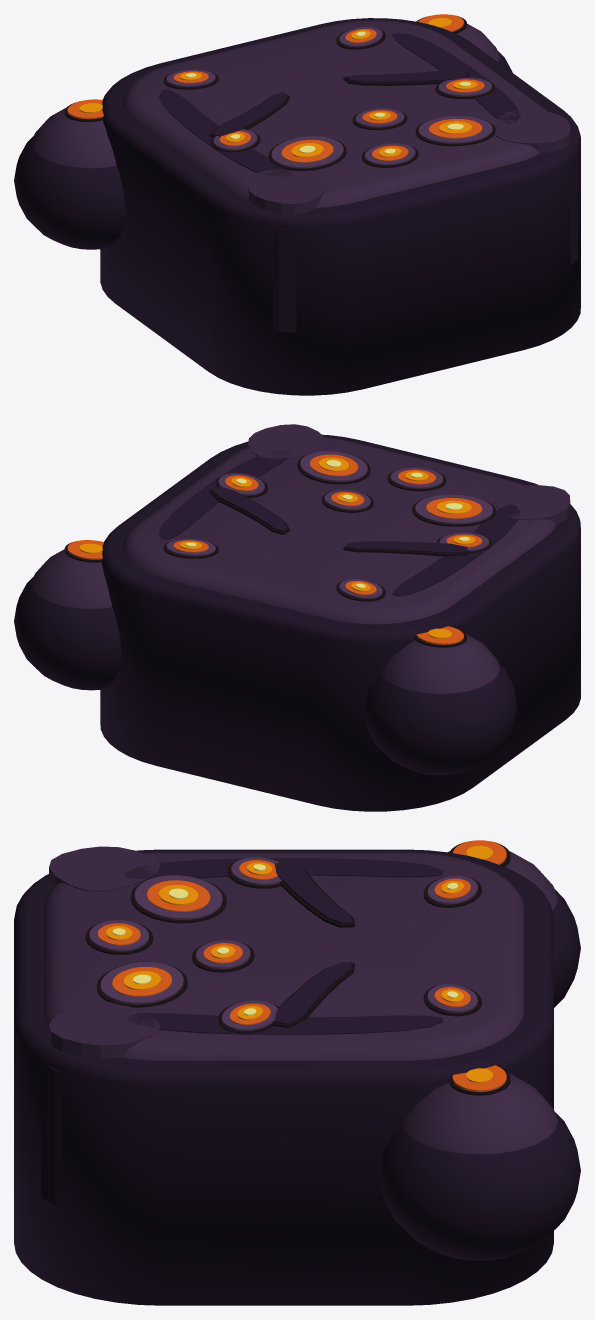
Rendered from body_meteoro_magma.fbx.
3 renders of one model, top to bottom at view 1: azimuth 30°, elevation 25°; view 2: azimuth 150°, elevation 25°; view 3: azimuth 270°, elevation 25°, orthographic. The views are drawn at different scales.
Parts seen in each view (by area): view 1: body_meteoro_magma_corpo, body_meteoro_magma_mao_esq, body_meteoro_magma_corpo_neon, body_meteoro_magma_mao; view 2: body_meteoro_magma_corpo, body_meteoro_magma_mao_esq, body_meteoro_magma_mao, body_meteoro_magma_corpo_neon; view 3: body_meteoro_magma_corpo, body_meteoro_magma_mao, body_meteoro_magma_corpo_neon, body_meteoro_magma_mao_esq, body_meteoro_magma_mao_neon, body_meteoro_magma_mao_esq_neon.
Part boxes in pixels (x1=…): body_meteoro_magma_corpo: x1=100, y1=18, x2=580, y2=395; body_meteoro_magma_mao_esq: x1=14, y1=101, x2=125, y2=249; body_meteoro_magma_corpo_neon: x1=173, y1=29, x2=484, y2=162; body_meteoro_magma_mao: x1=416, y1=15, x2=512, y2=72; body_meteoro_magma_corpo: x1=100, y1=424, x2=580, y2=811; body_meteoro_magma_mao_esq: x1=364, y1=627, x2=517, y2=775; body_meteoro_magma_mao: x1=14, y1=541, x2=121, y2=690; body_meteoro_magma_corpo_neon: x1=173, y1=454, x2=482, y2=594; body_meteoro_magma_corpo: x1=14, y1=846, x2=553, y2=1305; body_meteoro_magma_mao: x1=379, y1=1066, x2=580, y2=1260; body_meteoro_magma_corpo_neon: x1=98, y1=860, x2=470, y2=1024; body_meteoro_magma_mao_esq: x1=448, y1=841, x2=580, y2=1007; body_meteoro_magma_mao_neon: x1=452, y1=1065, x2=506, y2=1091; body_meteoro_magma_mao_esq_neon: x1=453, y1=840, x2=506, y2=864.
Bounding box in the file's own units: 5.4 × 2.06 × 4.2.
1 material, 1 textured.
